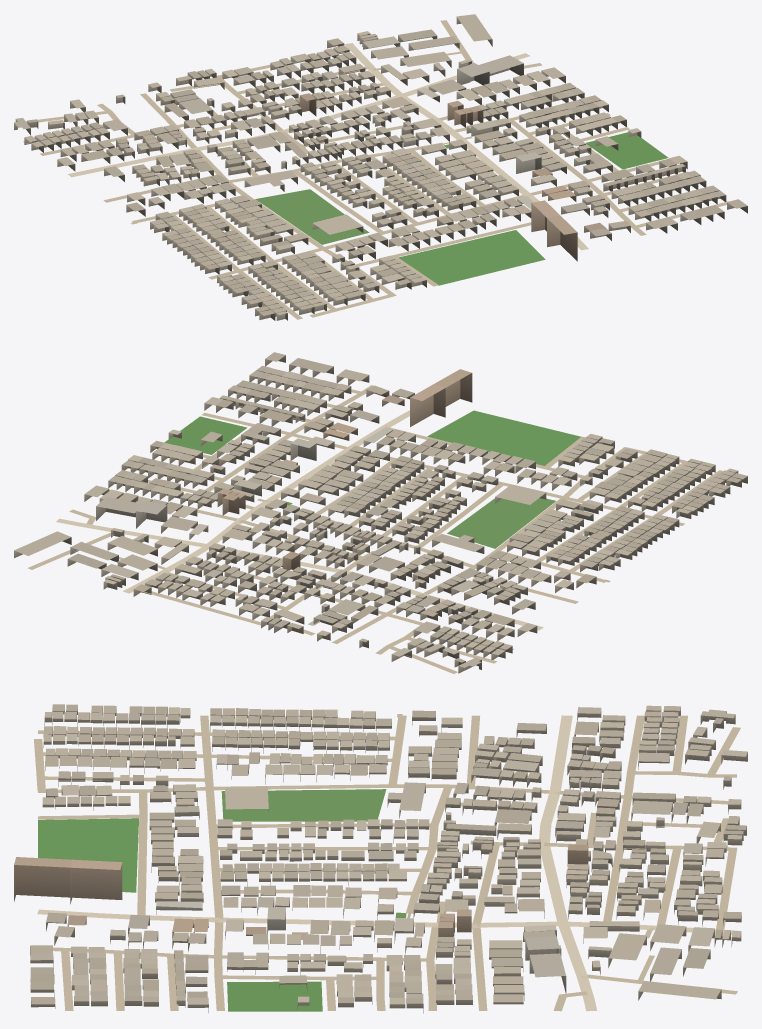
3 views of the same model, one above another, from view 1: azimuth 30°, elevation 25°; view 2: azimuth 150°, elevation 25°; view 3: azimuth 270°, elevation 25° (orthographic). The views are drawn at different scales.
Visible parts, largest first — view 1: building, ground; view 2: building, ground; view 3: building, ground.
Boxes of the visible parts, x1,y1,x2,y2 form: building: (14, 14, 747, 320); ground: (23, 20, 728, 319); building: (14, 352, 747, 673); ground: (27, 378, 723, 673); building: (14, 704, 747, 1013); ground: (34, 714, 740, 1011).
Bounding box in the file's own units: 508 × 30 × 525.
